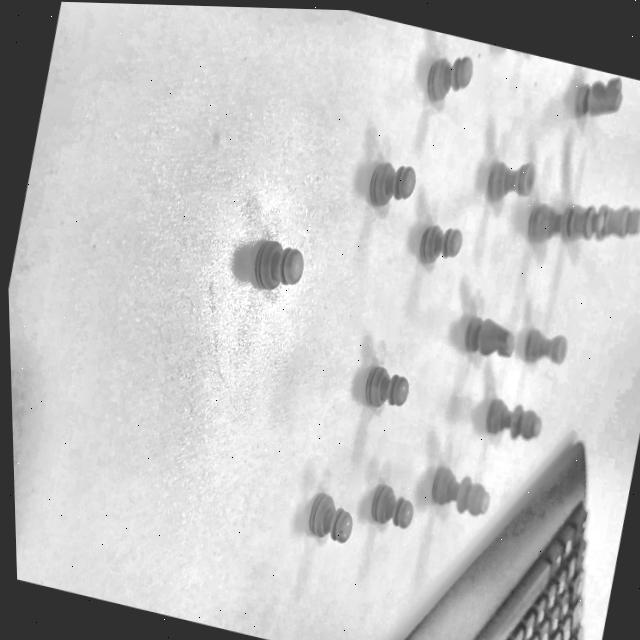white-bishop: (428, 464, 495, 519), (484, 396, 545, 444)
white-king: (554, 177, 640, 273)
white-knight: (458, 312, 521, 368), (569, 67, 626, 125)
white-pawn: (239, 227, 311, 309), (422, 43, 477, 105), (365, 155, 420, 213), (306, 489, 358, 544), (362, 363, 413, 413), (416, 221, 466, 270), (369, 483, 418, 531)
white-queen: (520, 182, 610, 276)
white-rook: (475, 141, 541, 220), (521, 320, 572, 373)
